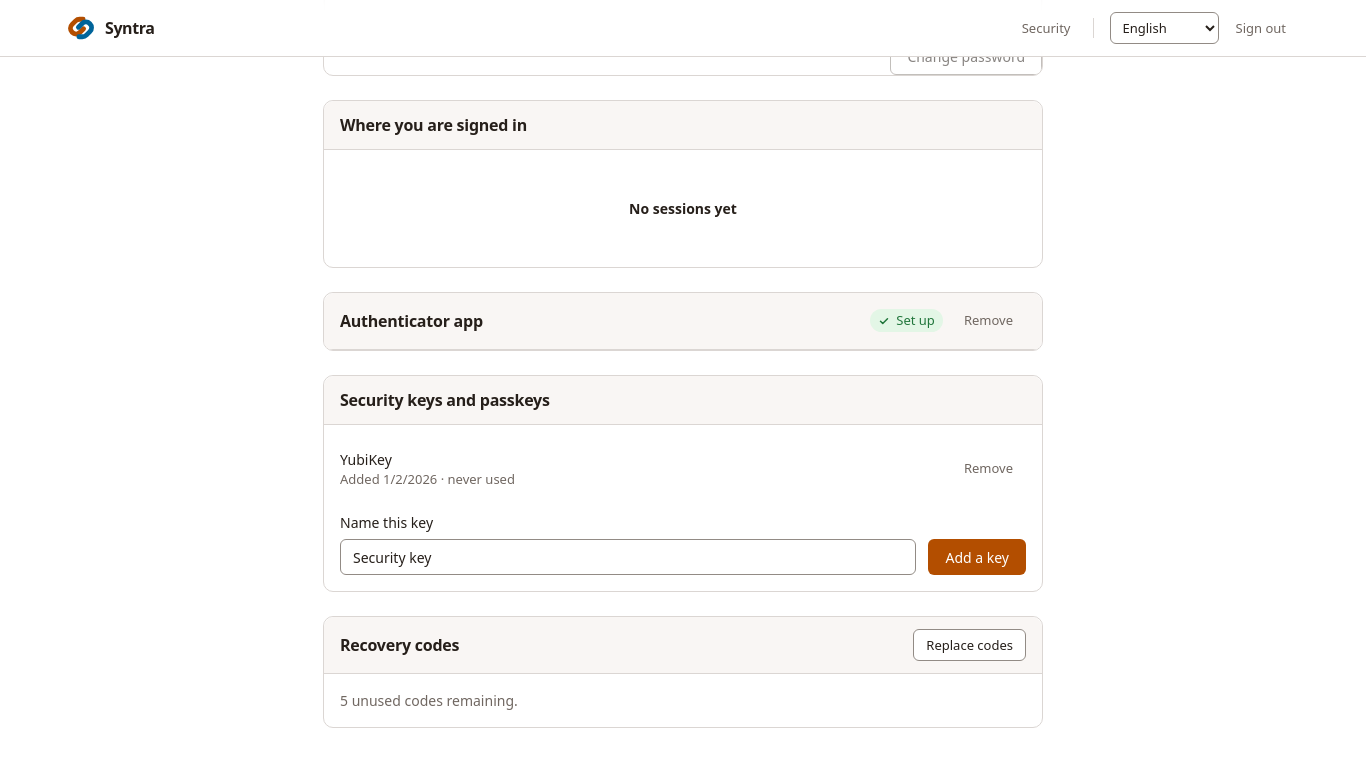
it: removing a security key says what it cost › tells the user the printed codes have stopped working
(page scrolled)
Check: the text "YubiKey" is shown, box x1=340 y1=450 x2=392 y2=469
Step 1. Click the button "Remove" in the row of "YubiKey" → (988, 468), box x1=951 y1=452 x2=1026 y2=484
(page scrolled)
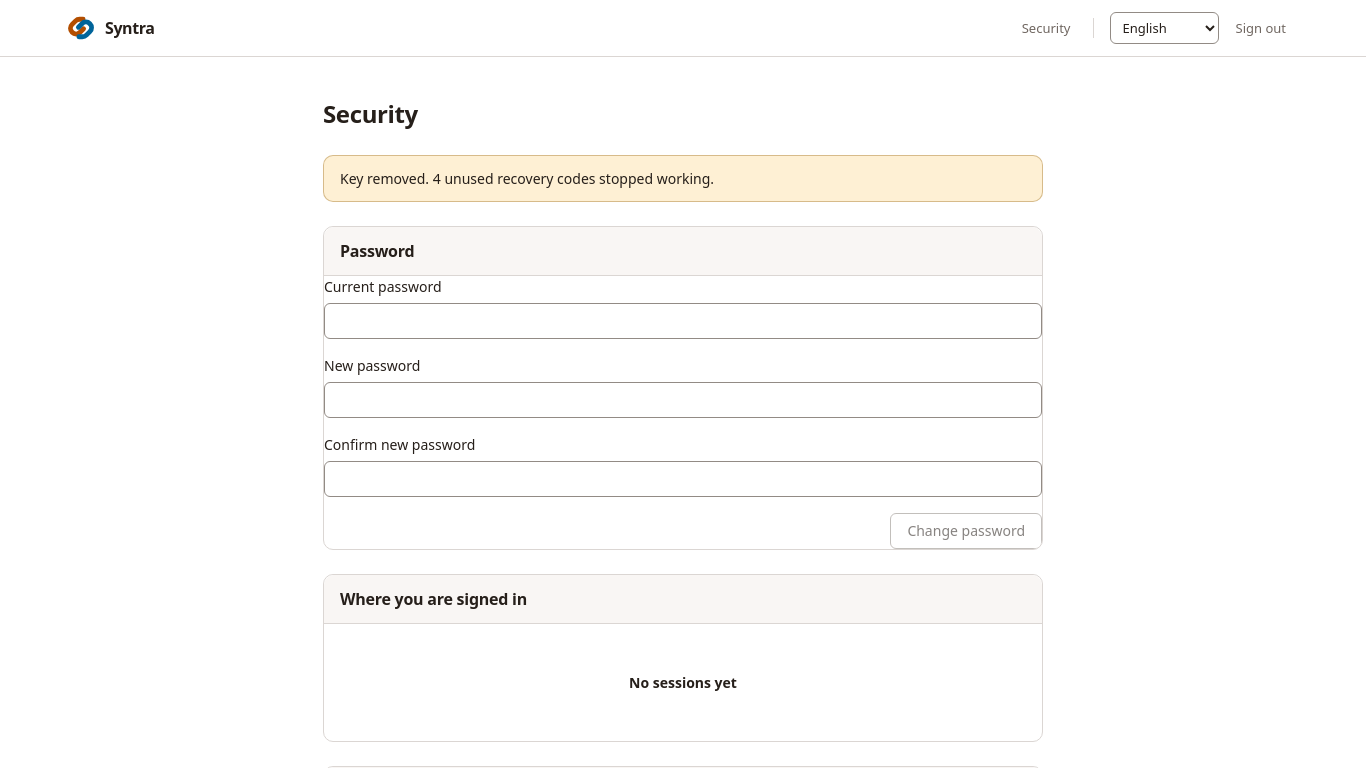
Check: the text "Key removed. 4 unused recovery codes stopped working." is shown, box x1=340 y1=169 x2=714 y2=188
